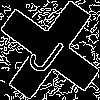J: (25, 25, 73, 77)
